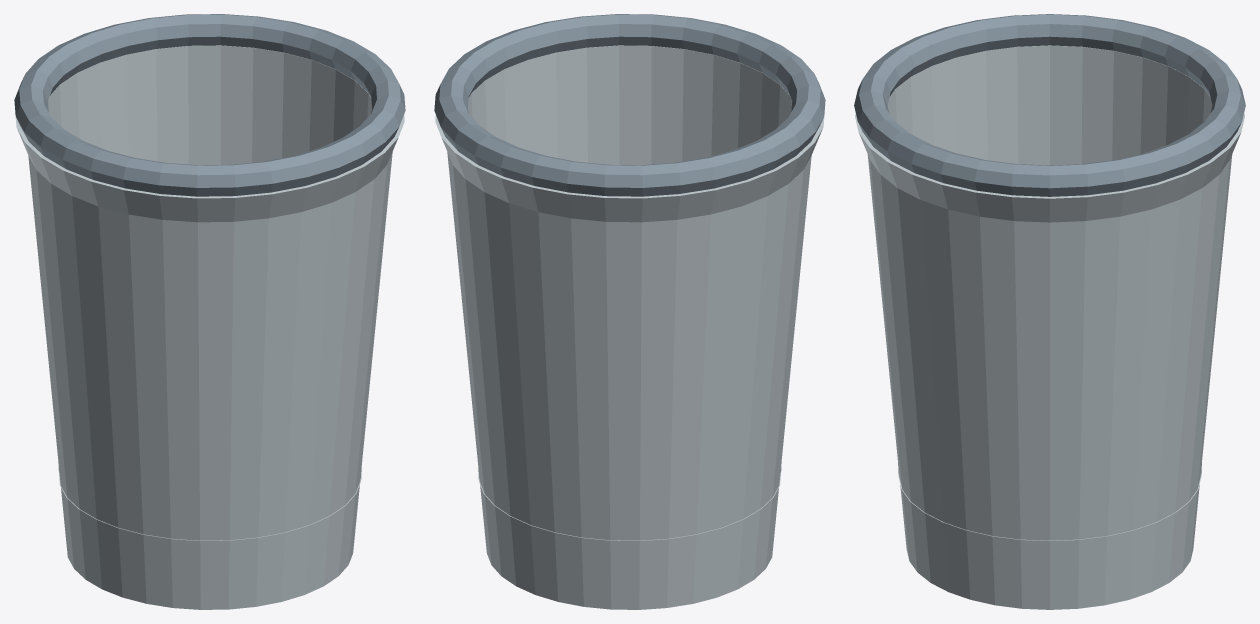
Rendered from waste_bin.glb.
3 renders of one model, left to right at view 1: azimuth 30°, elevation 25°; view 2: azimuth 150°, elevation 25°; view 3: azimuth 270°, elevation 25°, orthographic.
Parts seen in each view (by area): view 1: decor_9aadb8_metal, decor_455665_metal; view 2: decor_9aadb8_metal, decor_455665_metal; view 3: decor_9aadb8_metal, decor_455665_metal.
Part boxes in pixels (left/top/right/bottom): decor_9aadb8_metal: left=15, top=45, right=404, bottom=609; decor_455665_metal: left=14, top=14, right=405, bottom=196; decor_9aadb8_metal: left=435, top=45, right=824, bottom=609; decor_455665_metal: left=434, top=14, right=825, bottom=196; decor_9aadb8_metal: left=855, top=45, right=1244, bottom=609; decor_455665_metal: left=854, top=14, right=1245, bottom=196.
Size of the model in its own units: 0.492 by 0.636 by 0.492.
